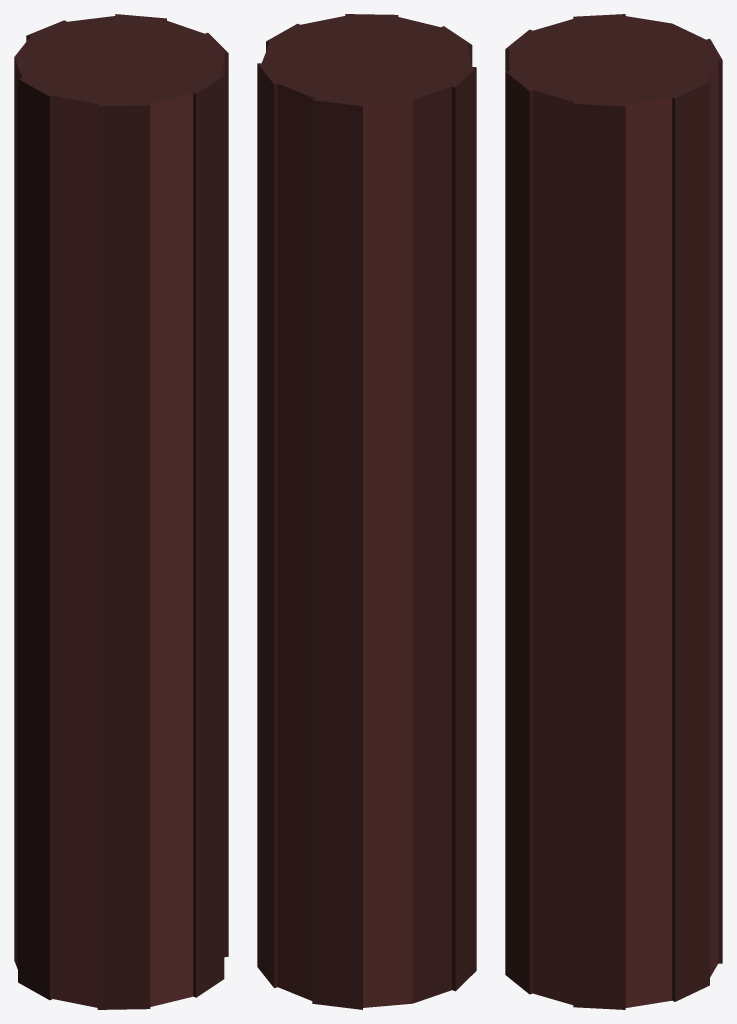
Rendered from Handle1.glb.
3 renders of one model, left to right at view 1: azimuth 30°, elevation 25°; view 2: azimuth 150°, elevation 25°; view 3: azimuth 270°, elevation 25°, orthographic.
Parts seen in each view (by area): view 1: Handle 1; view 2: Handle 1; view 3: Handle 1.
Boxes of the visible parts, x1,y1,x2,y2 form: Handle 1: (14,14,228,1009); Handle 1: (257,14,476,1009); Handle 1: (505,14,722,1009).
Bounding box in the file's own units: 0.2638 × 1.2 × 0.2619.
